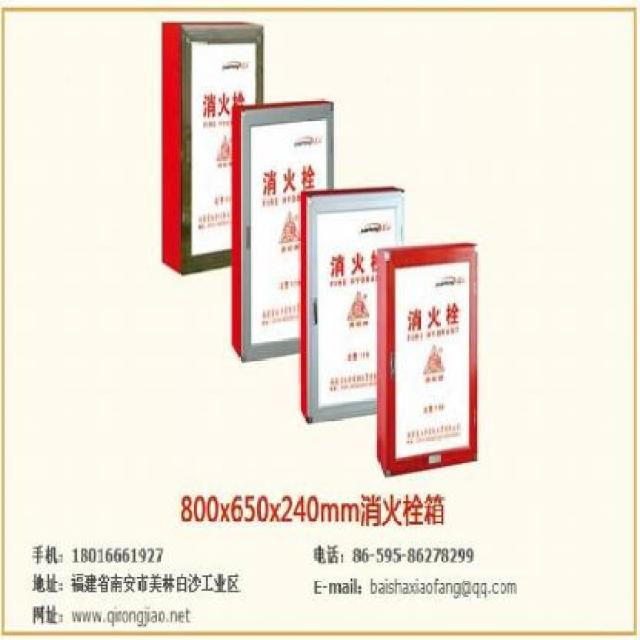firehydrant: (229, 94, 338, 368), (157, 17, 267, 283), (297, 180, 408, 426), (374, 238, 481, 481)
